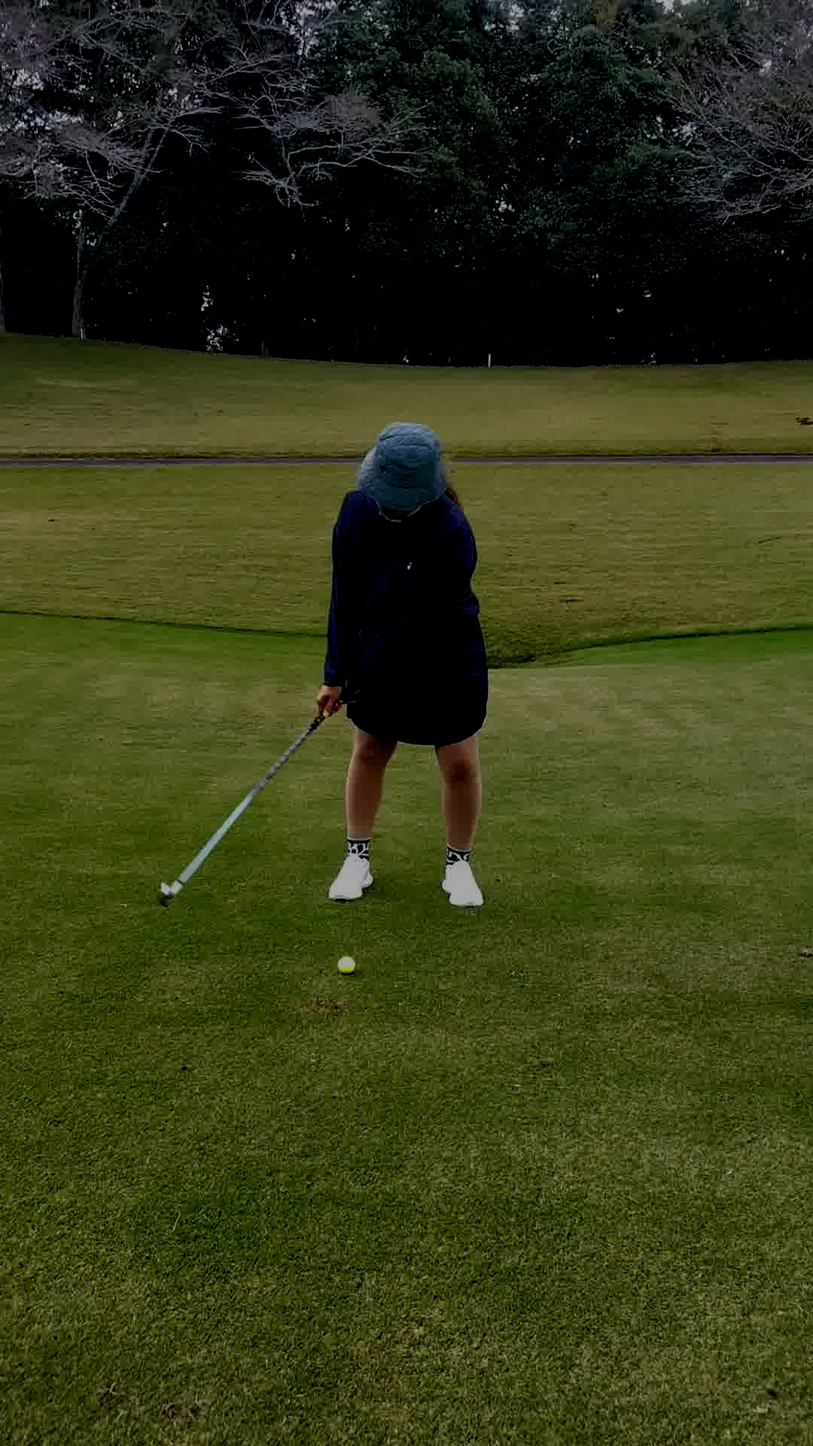clubhead: (56, 803, 272, 987)
